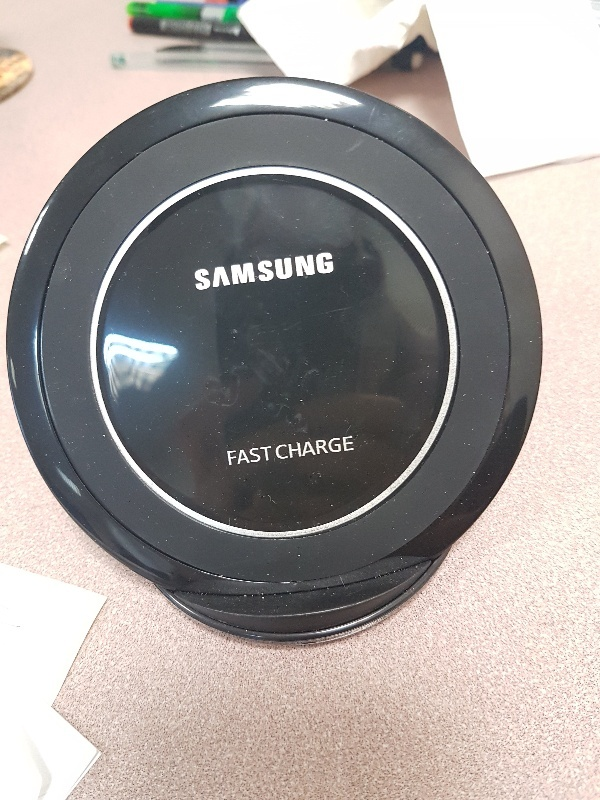text: (193, 251, 208, 292), (209, 251, 224, 292), (225, 251, 240, 292), (241, 251, 256, 292), (257, 251, 272, 292), (273, 251, 288, 292), (289, 251, 304, 292), (305, 251, 320, 292), (321, 251, 336, 292), (289, 435, 304, 460), (305, 435, 320, 460), (321, 435, 336, 460), (337, 435, 352, 460), (275, 435, 288, 460), (241, 446, 256, 466), (257, 446, 272, 466), (227, 446, 240, 466), (353, 435, 355, 460), (273, 446, 274, 466)
